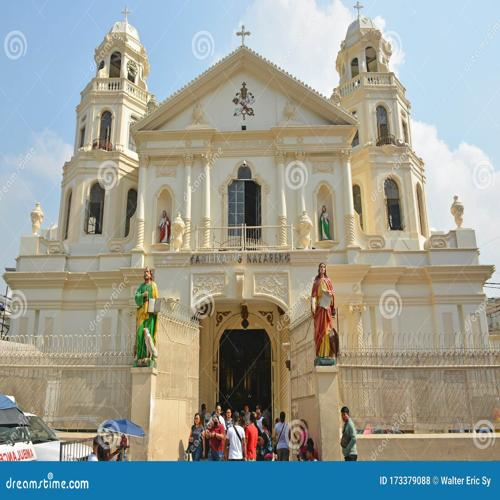Quiapo Church: (1, 5, 499, 454)
